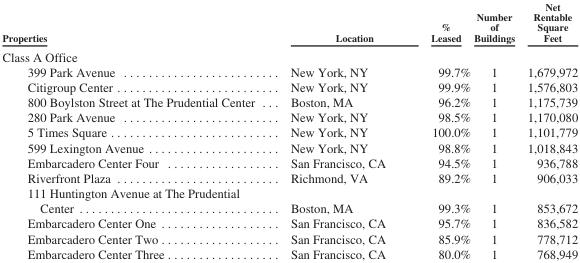table: (1, 0, 577, 260)
table column: (1, 0, 272, 260), (272, 0, 407, 260), (407, 0, 471, 260), (520, 0, 577, 260), (471, 0, 520, 260)
table column header: (1, 0, 577, 46)
table projected row header: (1, 46, 577, 63)
table row: (1, 0, 577, 46), (1, 185, 577, 215), (1, 46, 577, 63), (1, 63, 577, 79), (1, 154, 577, 170), (1, 79, 577, 94), (1, 94, 577, 109), (1, 109, 577, 124), (1, 124, 577, 139), (1, 139, 577, 154), (1, 170, 577, 185), (1, 215, 577, 230), (1, 230, 577, 245), (1, 245, 577, 260)
